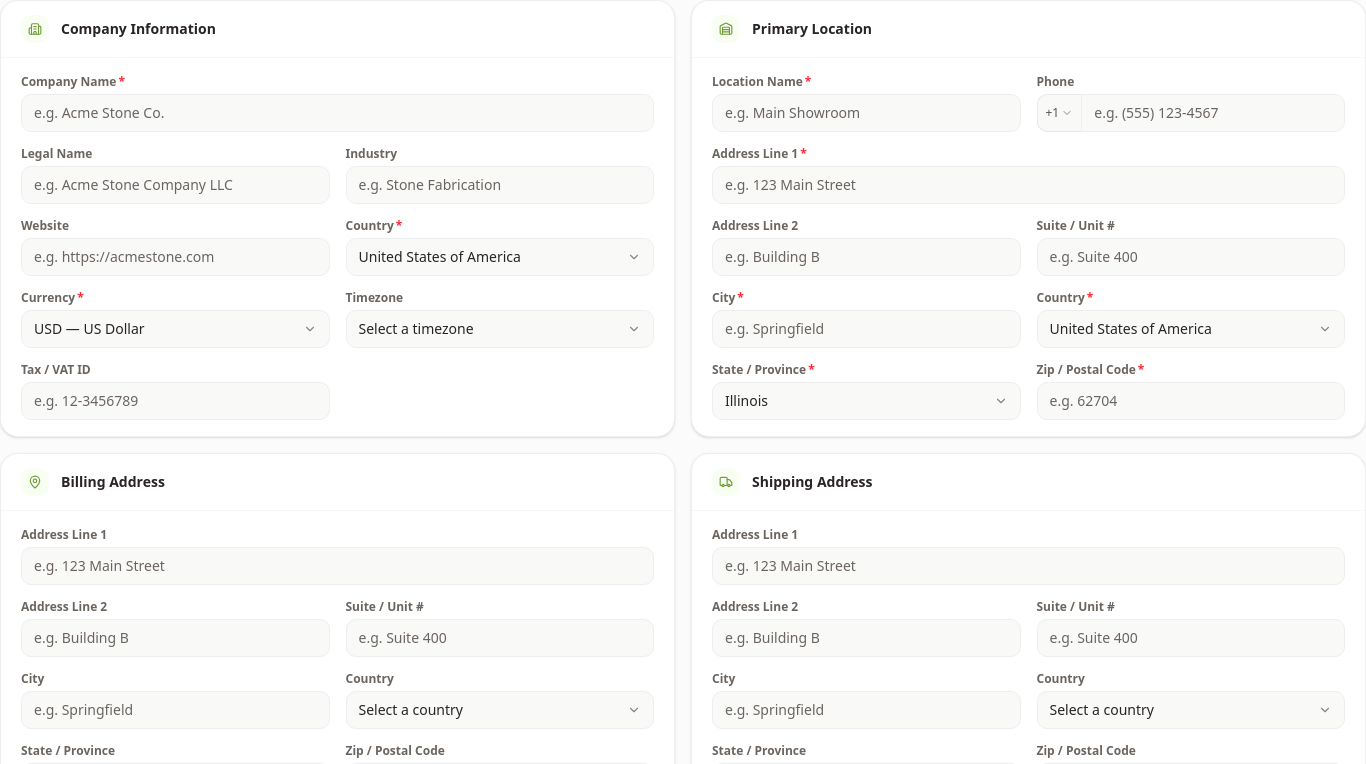
OnboardingForm — State dropdown › keeps a chosen state until the country changes, then clears it
Check: the button with aria-label "State / Province: Illinois" is shown, box [712,382,1020,420]
Click the button "United States of America" below "Location Name" at (1191, 329), box [1036,310,1345,348]
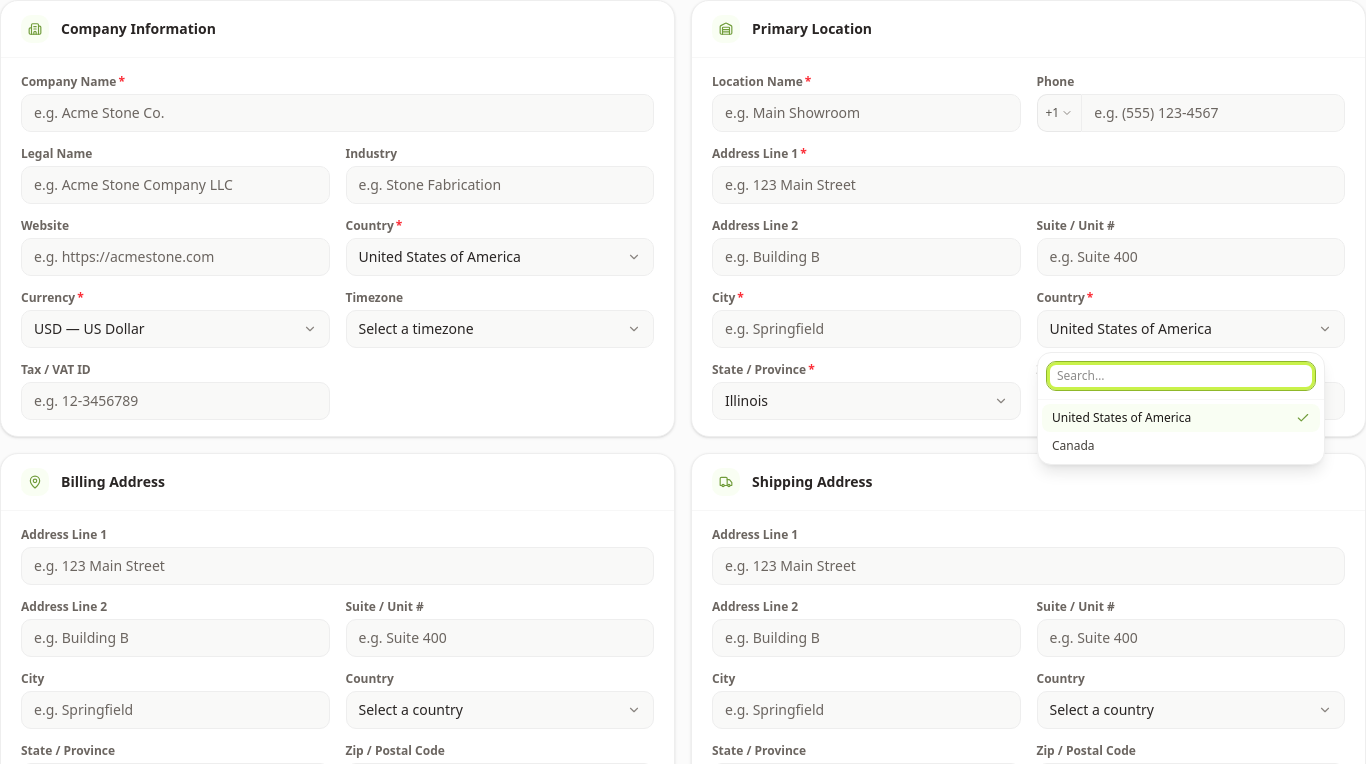
Click the option "Canada" at (1073, 446), box [1042,432,1320,460]
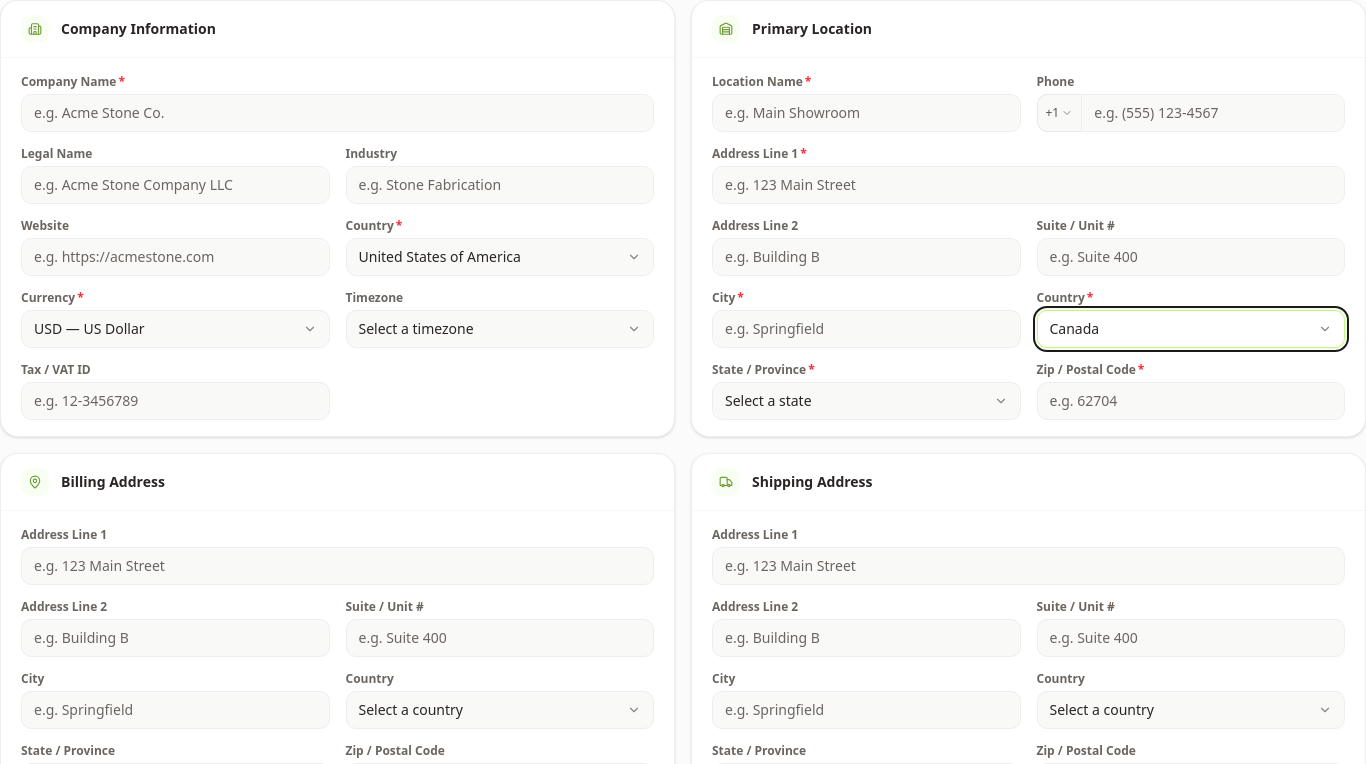
Check: the button with aria-label "Country: Canada" is shown, box [1036,310,1345,348]
Check: the button with aria-label "State / Province: Select a state" is shown, box [712,382,1020,420]
